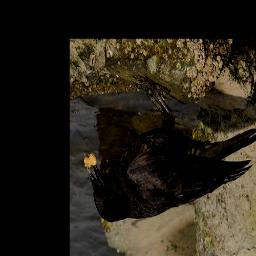Crow: (84, 76, 256, 224)
